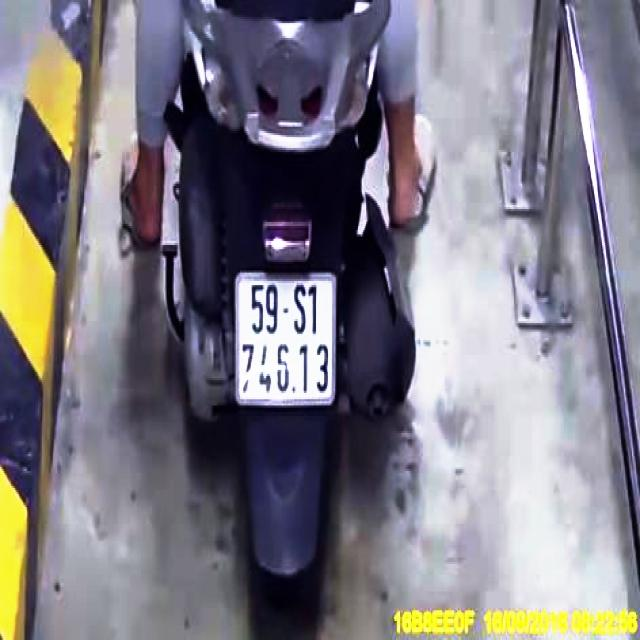license_plate: (238, 276, 335, 400)
